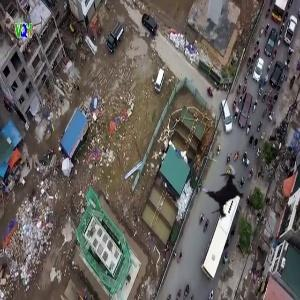drone: (193, 162, 254, 223)
